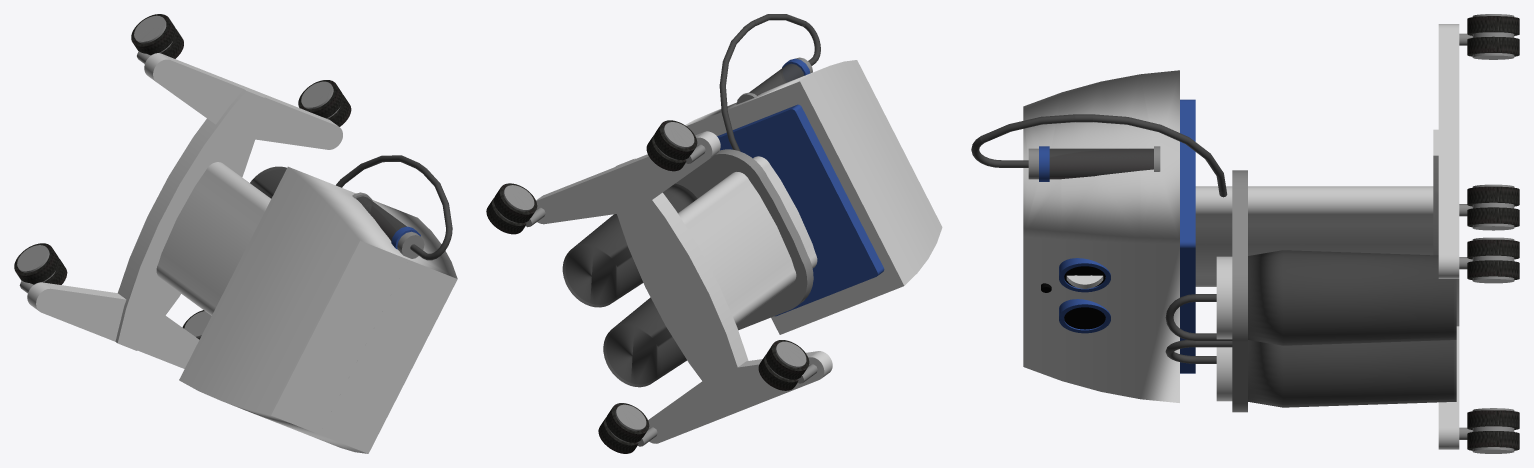
The model's file is Vakuumsauger.obj.
The picture shows the model from 3 angles, left to right: view 1: azimuth 30°, elevation 25°; view 2: azimuth 150°, elevation 25°; view 3: azimuth 270°, elevation 25°; orthographic projection. The views are drawn at different scales.
Visible parts, largest first — view 1: 0_MT_GER_TE KUNSTSTOFF_PE__WEISS SMOOTH_PART, 0_MT_GER_TE KUNSTSTOFF_PE__WEISS FLAT_PART, 0_MT_GER_TE GLAS_RAUCHGLAS SMOOTH_PART, 0_MT_GER_TE FARBE__GRAU FLAT_PART, 0_MT_GER_TE ASPHALT SMOOTH_PART, 0_MT_GER_TE ASPHALT FLAT_PART, 0_MT_GER_TE FARBE__GRAU SMOOTH_PART; view 2: 0_MT_GER_TE KUNSTSTOFF_PE__WEISS SMOOTH_PART, 0_MT_GER_TE KUNSTSTOFF_PE__WEISS FLAT_PART, 0_MT_GER_TE GLAS_RAUCHGLAS SMOOTH_PART, 0_MT_GER_TE FARBE__BLAU FLAT_PART, 0_MT_GER_TE FARBE__GRAU FLAT_PART, 0_MT_GER_TE ASPHALT SMOOTH_PART, 0_MT_GER_TE FARBE__GRAU SMOOTH_PART, 0_MT_GER_TE FARBE__BLAU SMOOTH_PART, 0_MT_GER_TE ASPHALT FLAT_PART; view 3: 0_MT_GER_TE KUNSTSTOFF_PE__WEISS SMOOTH_PART, 0_MT_GER_TE GLAS_RAUCHGLAS SMOOTH_PART, 0_MT_GER_TE ASPHALT SMOOTH_PART, 0_MT_GER_TE FARBE__GRAU SMOOTH_PART, 0_MT_GER_TE FARBE__BLAU SMOOTH_PART, 0_MT_GER_TE FARBE__SCHWARZ FLAT_PART, 0_MT_GER_TE FARBE__BLAU FLAT_PART, 0_MT_GER_TE KUNSTSTOFF_PE__WEISS FLAT_PART, 0_MT_GER_TE ASPHALT FLAT_PART, 0_MT_GER_TE FARBE__GRAU FLAT_PART.
Part boxes in pixels (box(x1,y1,x2,y2)): 0_MT_GER_TE KUNSTSTOFF_PE__WEISS SMOOTH_PART: box(27, 53, 457, 453); 0_MT_GER_TE KUNSTSTOFF_PE__WEISS FLAT_PART: box(36, 59, 457, 453); 0_MT_GER_TE GLAS_RAUCHGLAS SMOOTH_PART: box(250, 155, 452, 260); 0_MT_GER_TE FARBE__GRAU FLAT_PART: box(17, 15, 424, 336); 0_MT_GER_TE ASPHALT SMOOTH_PART: box(16, 20, 351, 284); 0_MT_GER_TE ASPHALT FLAT_PART: box(14, 14, 345, 339); 0_MT_GER_TE FARBE__GRAU SMOOTH_PART: box(19, 20, 419, 337); 0_MT_GER_TE KUNSTSTOFF_PE__WEISS SMOOTH_PART: box(536, 60, 942, 418); 0_MT_GER_TE KUNSTSTOFF_PE__WEISS FLAT_PART: box(536, 81, 903, 443); 0_MT_GER_TE GLAS_RAUCHGLAS SMOOTH_PART: box(562, 14, 820, 387); 0_MT_GER_TE FARBE__BLAU FLAT_PART: box(718, 61, 877, 316); 0_MT_GER_TE FARBE__GRAU FLAT_PART: box(504, 94, 807, 446); 0_MT_GER_TE ASPHALT SMOOTH_PART: box(486, 125, 806, 453); 0_MT_GER_TE FARBE__GRAU SMOOTH_PART: box(497, 57, 817, 445); 0_MT_GER_TE FARBE__BLAU SMOOTH_PART: box(717, 58, 884, 275); 0_MT_GER_TE ASPHALT FLAT_PART: box(492, 120, 809, 445); 0_MT_GER_TE KUNSTSTOFF_PE__WEISS SMOOTH_PART: box(1023, 24, 1459, 449); 0_MT_GER_TE GLAS_RAUCHGLAS SMOOTH_PART: box(971, 114, 1456, 407); 0_MT_GER_TE ASPHALT SMOOTH_PART: box(1467, 16, 1519, 448); 0_MT_GER_TE FARBE__GRAU SMOOTH_PART: box(1028, 14, 1514, 451); 0_MT_GER_TE FARBE__BLAU SMOOTH_PART: box(1039, 99, 1195, 373); 0_MT_GER_TE FARBE__SCHWARZ FLAT_PART: box(1041, 266, 1105, 329); 0_MT_GER_TE FARBE__BLAU FLAT_PART: box(1059, 263, 1110, 333); 0_MT_GER_TE KUNSTSTOFF_PE__WEISS FLAT_PART: box(1067, 129, 1459, 284); 0_MT_GER_TE ASPHALT FLAT_PART: box(1467, 31, 1519, 450); 0_MT_GER_TE FARBE__GRAU FLAT_PART: box(1472, 55, 1514, 453).
Size of the model in its own units: 87.99 by 88.29 by 105.
